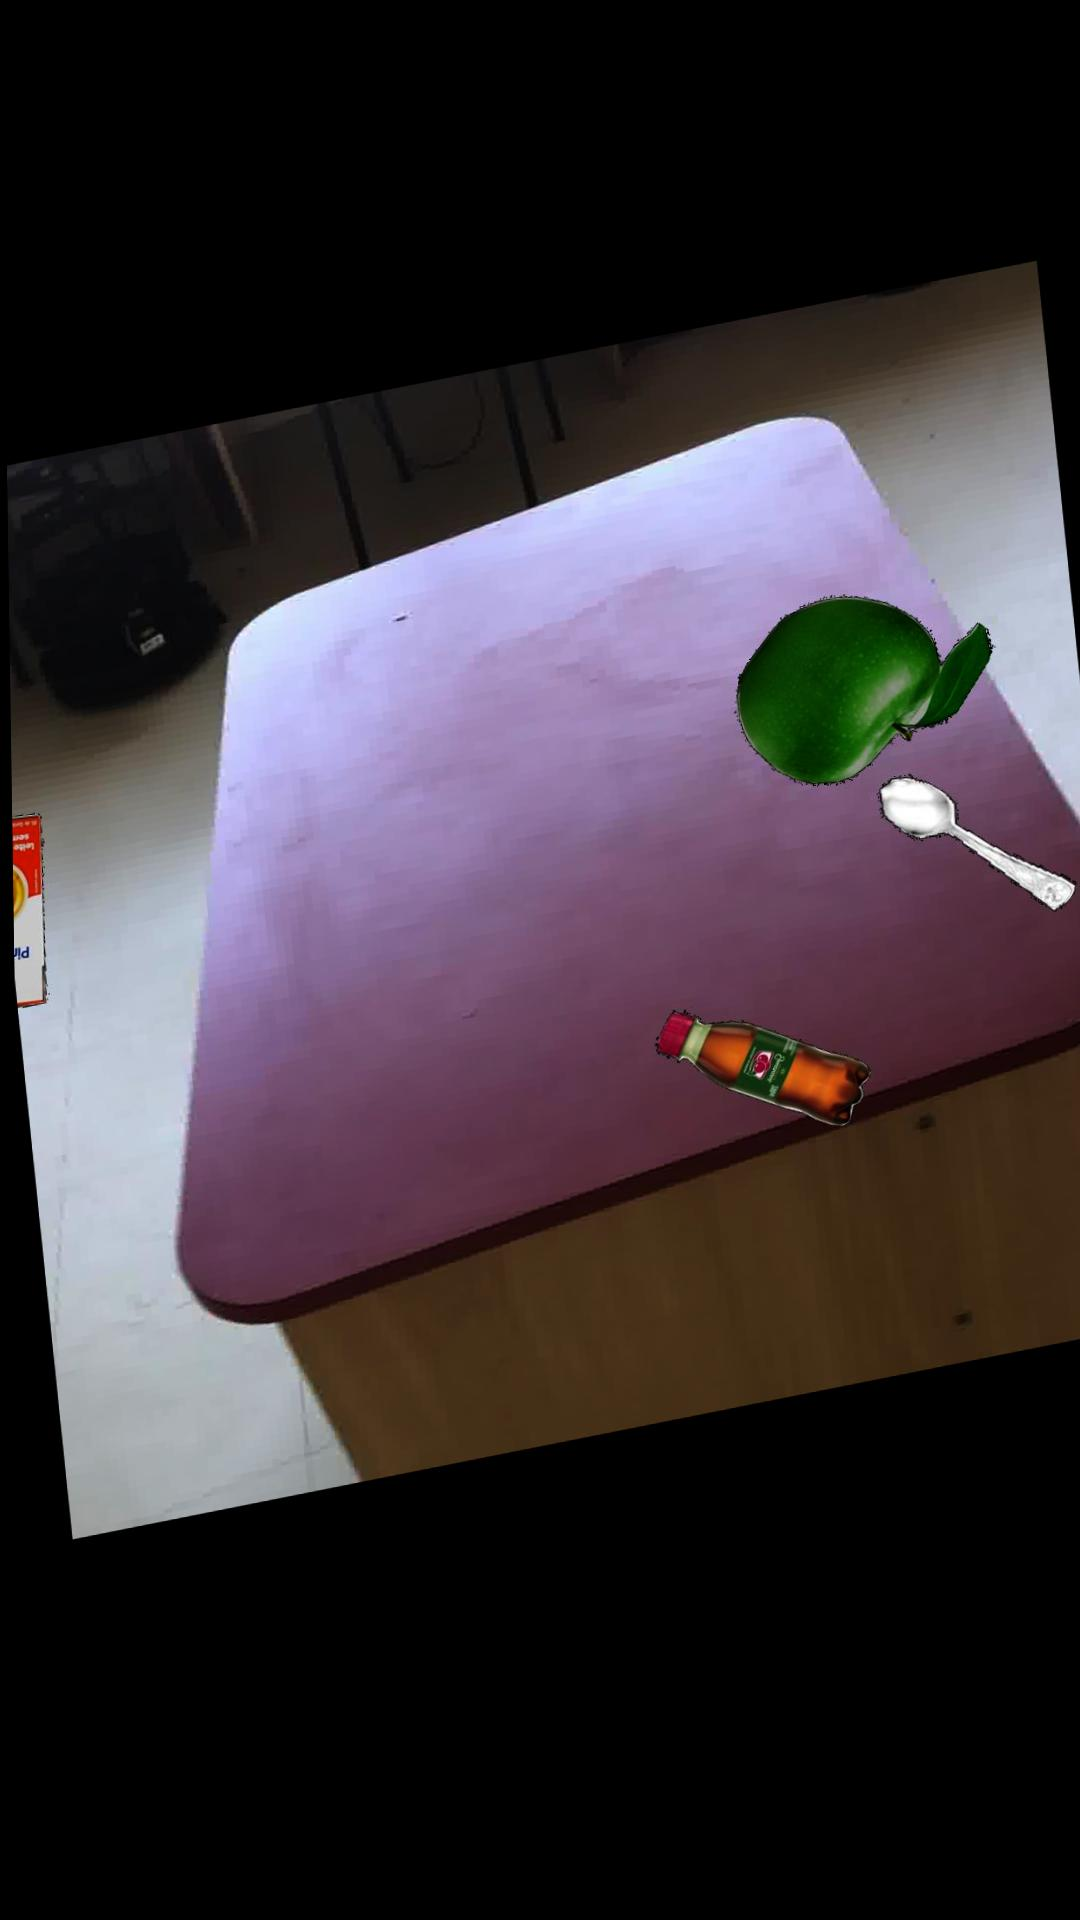green apple: (735, 617, 990, 807)
guarana: (651, 1027, 868, 1147)
spoon: (876, 798, 1073, 938)
